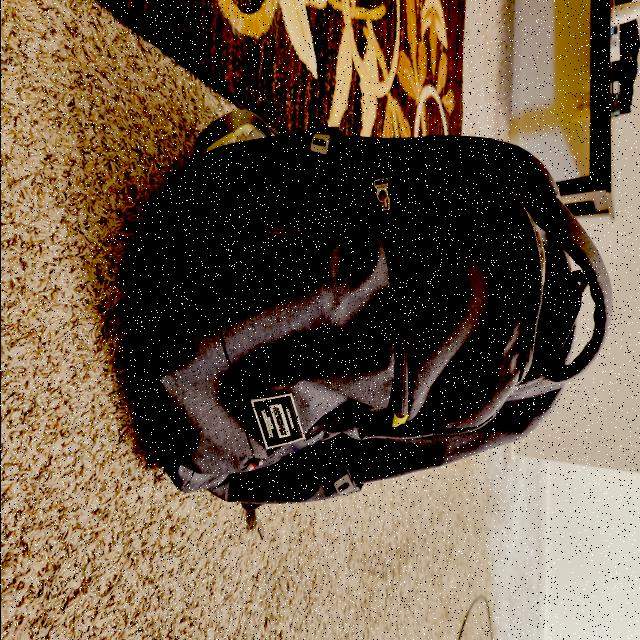bag: (135, 144, 604, 514)
